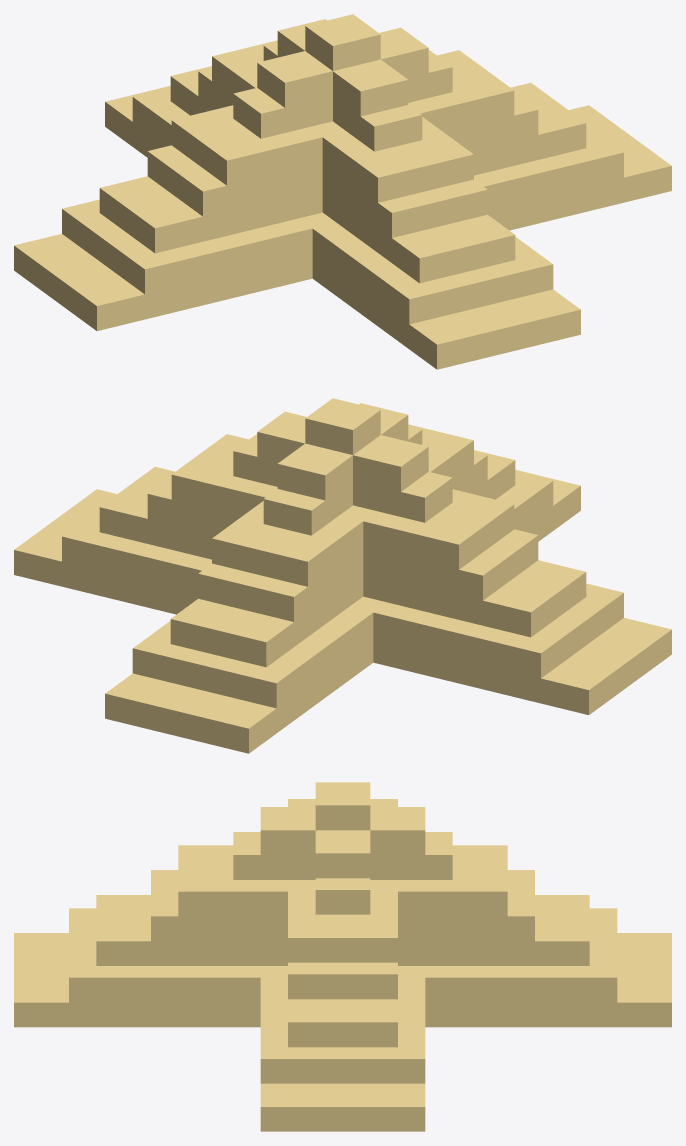
File: fifthModelRoof.fbx
The picture shows the model from 3 angles, top to bottom: view 1: azimuth 30°, elevation 25°; view 2: azimuth 150°, elevation 25°; view 3: azimuth 270°, elevation 25°; orthographic projection.
Visible parts, largest first — view 1: Torus; view 2: Torus; view 3: Torus.
Boxes of the visible parts, left/top/right/bottom form: Torus: left=14, top=14, right=671, bottom=369; Torus: left=14, top=398, right=671, bottom=753; Torus: left=14, top=782, right=671, bottom=1131.
Bounding box in the file's own units: 24 × 8 × 24.
Materials: 1 (1 with a texture image).
